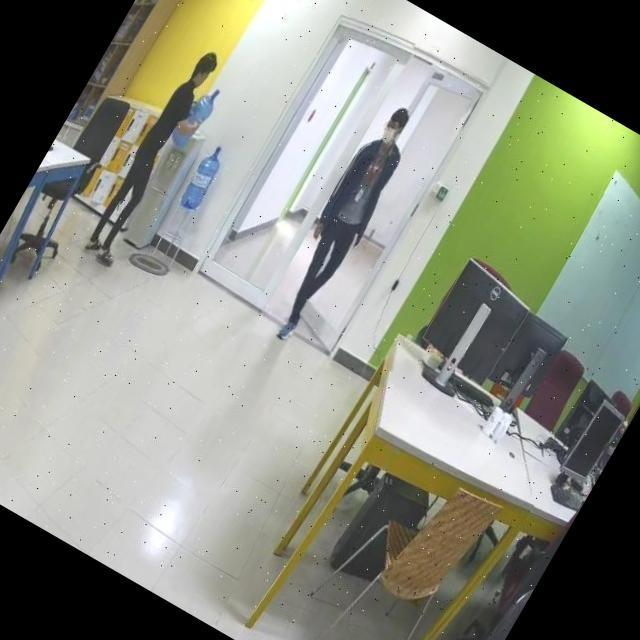person: (257, 96, 424, 343), (79, 42, 231, 270)
